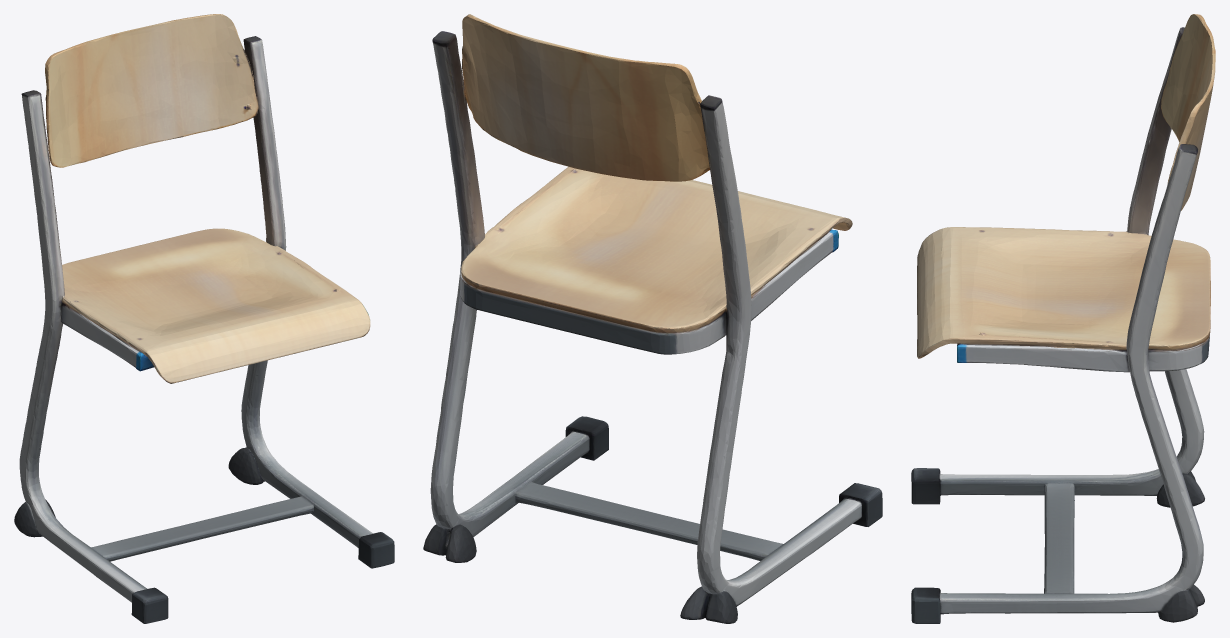
Rendered from chair3.glb.
The picture shows the model from 3 angles, left to right: view 1: azimuth 30°, elevation 25°; view 2: azimuth 150°, elevation 25°; view 3: azimuth 270°, elevation 25°; orthographic projection. The views are drawn at different scales.
Visible parts, largest first — view 1: world; view 2: world; view 3: world.
Part boxes in pixels (x1,y1,x2,y2): world: (14,14,394,623); world: (423,14,882,623); world: (911,14,1215,623).
Size of the model in its own units: 0.5727 by 1 by 0.5526.
Materials: 1 (1 with a texture image).
